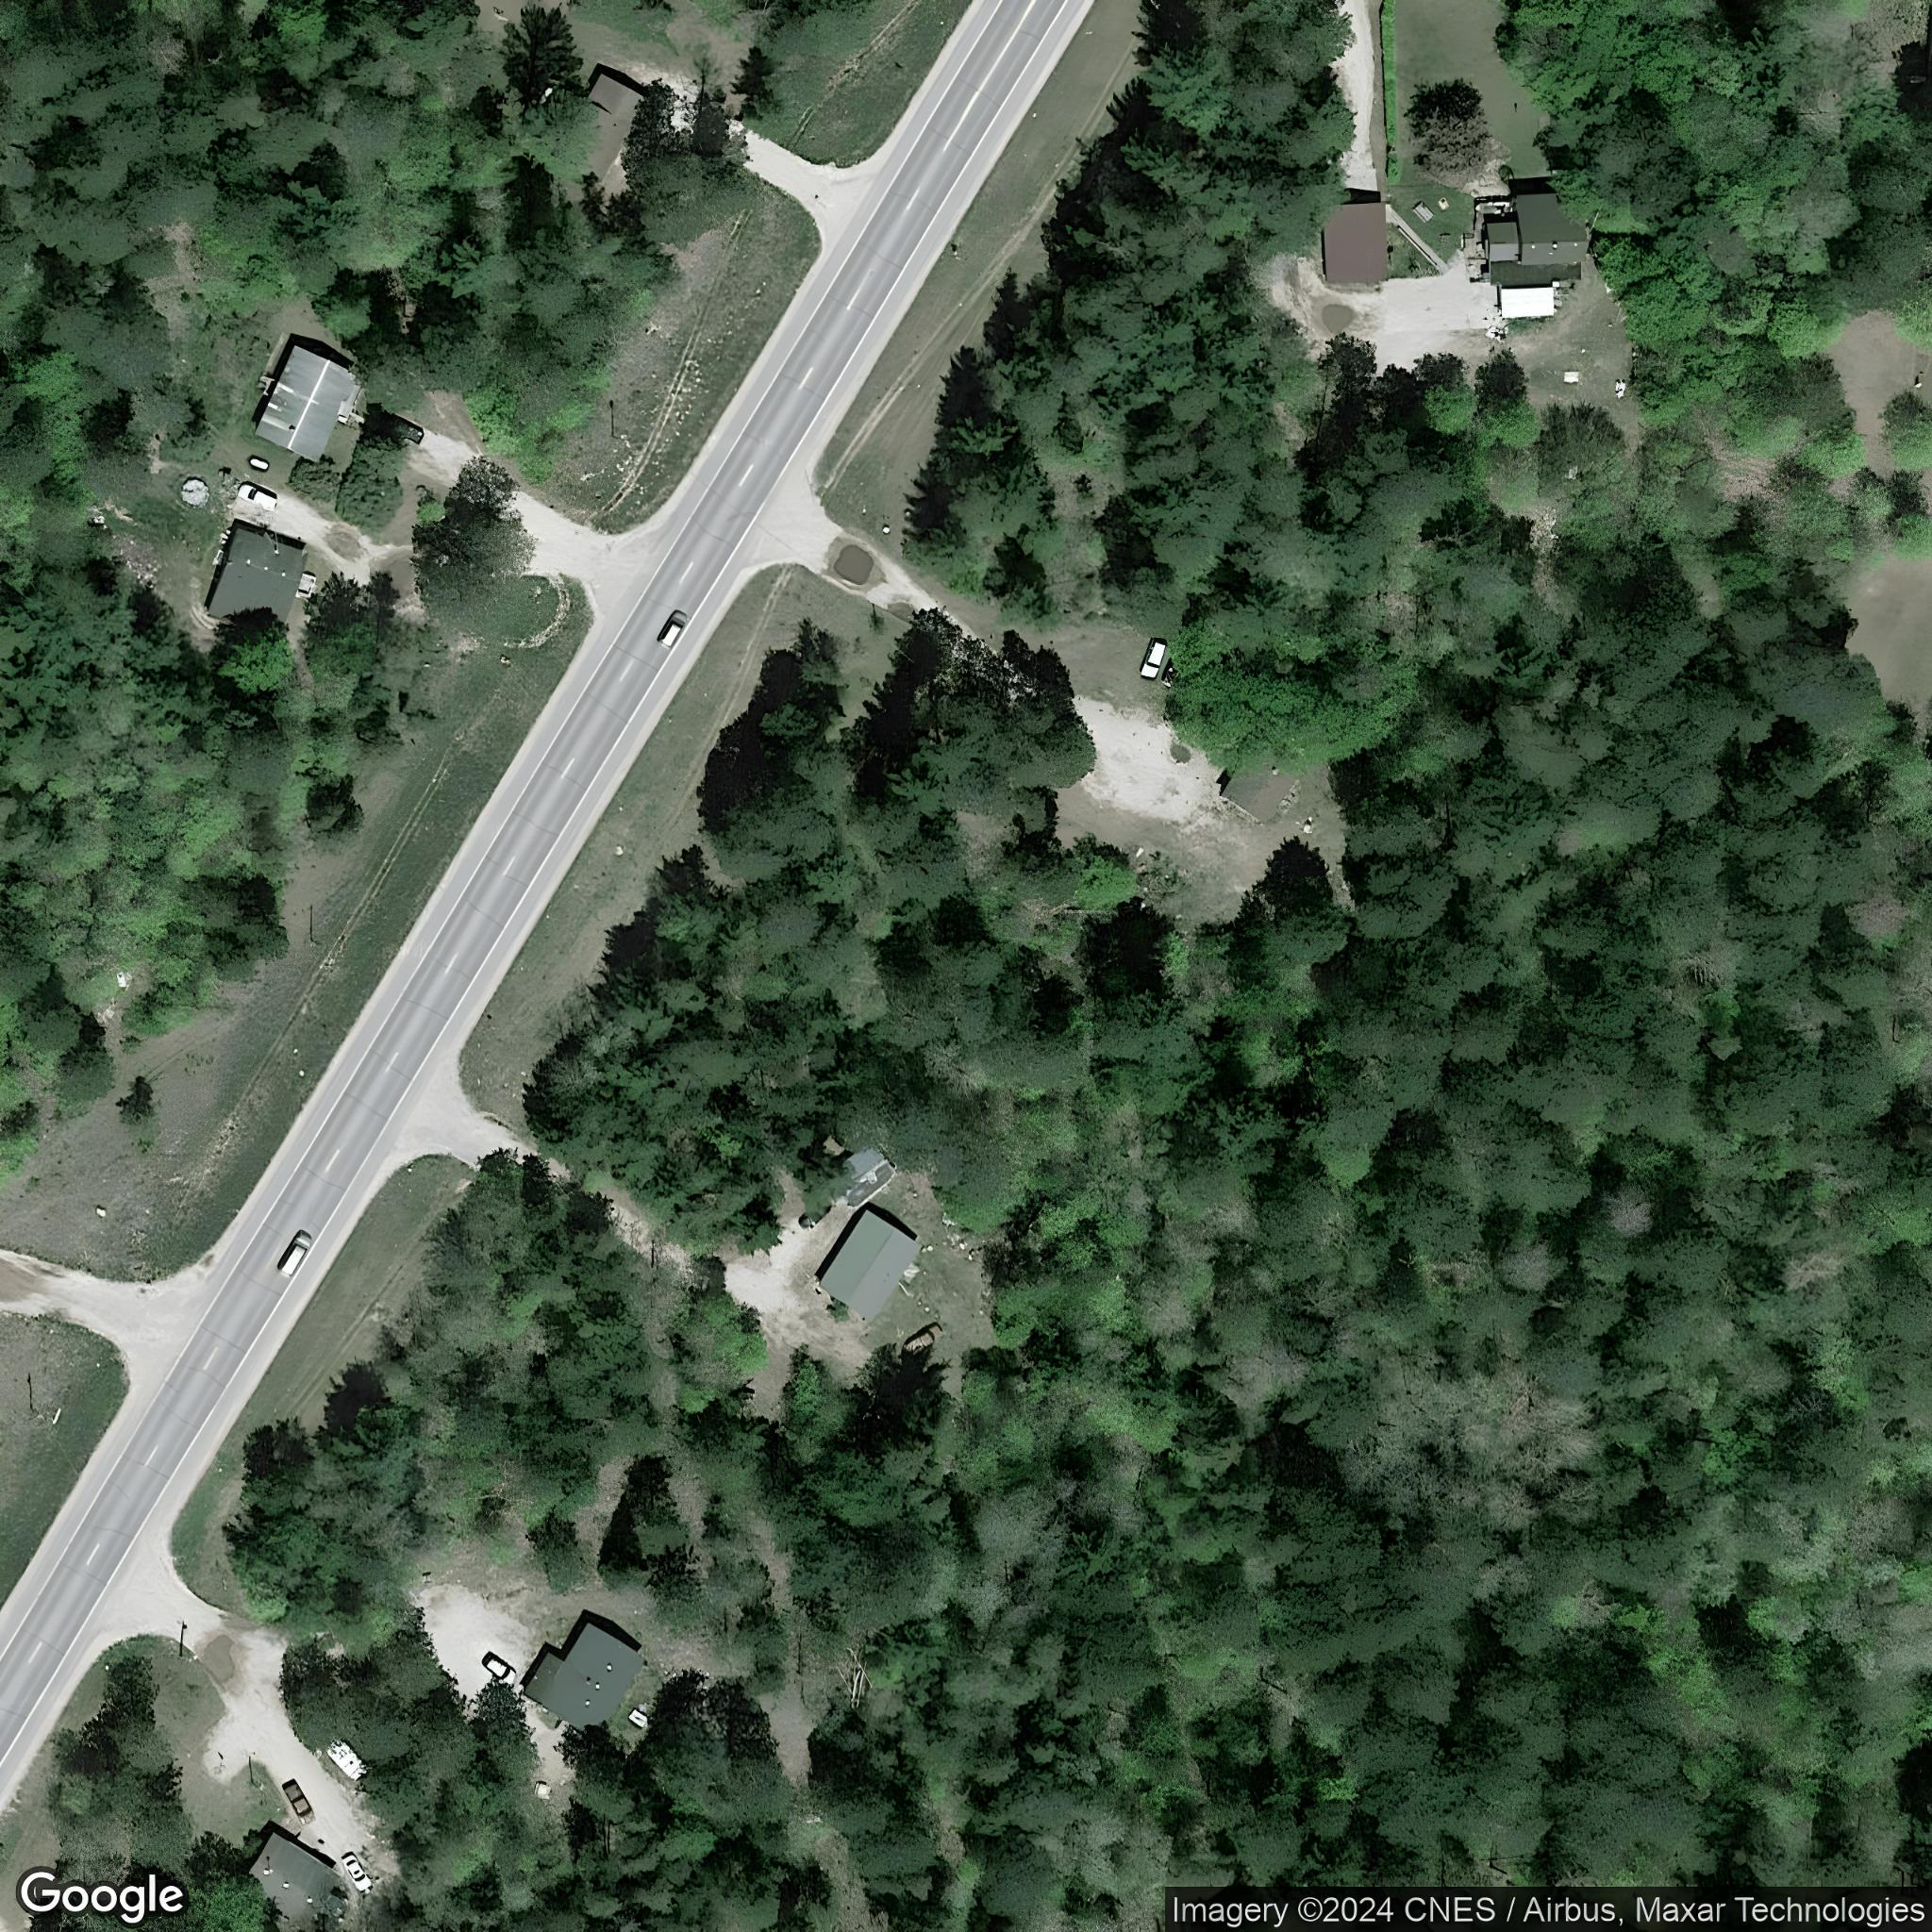Garage: (1323, 202, 1389, 283)
House: (522, 1621, 646, 1739), (253, 343, 361, 467), (547, 69, 651, 193), (817, 1207, 924, 1327), (205, 527, 310, 635), (1484, 193, 1591, 287), (244, 1829, 341, 1930), (1219, 743, 1306, 826)
Propane: (246, 453, 272, 476), (536, 83, 557, 110)
